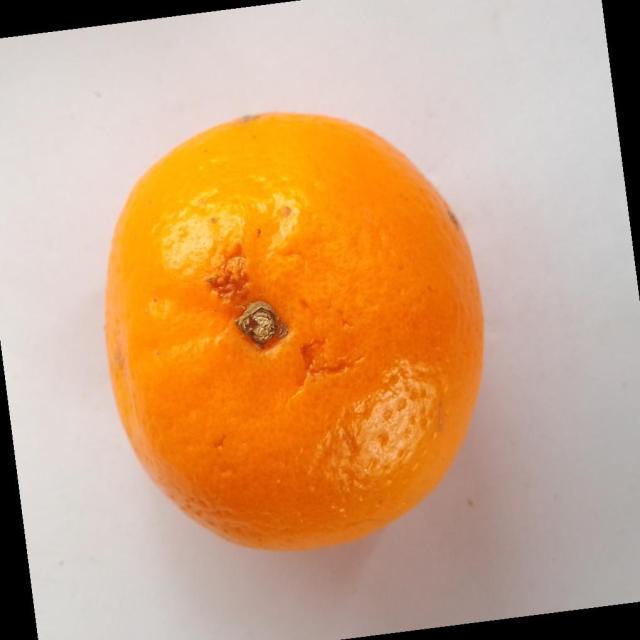fresh orange: (104, 110, 485, 552)
